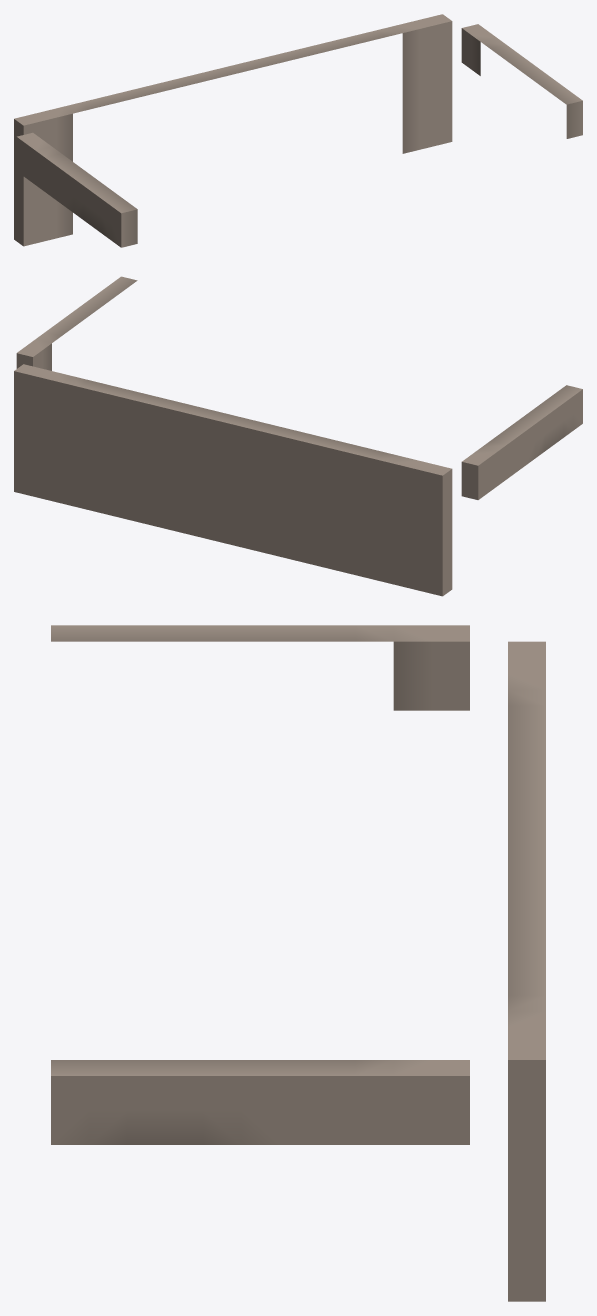
Rendered from hair_m_shaved.glb.
The picture shows the model from 3 angles, top to bottom: view 1: azimuth 30°, elevation 25°; view 2: azimuth 150°, elevation 25°; view 3: azimuth 270°, elevation 25°; orthographic projection. The views are drawn at different scales.
Parts seen in each view (by area): view 1: VoxelVisual; view 2: VoxelVisual; view 3: VoxelVisual.
Part boxes in pixels (x1=…): VoxelVisual: x1=14, y1=14, x2=582, y2=247; VoxelVisual: x1=14, y1=276, x2=582, y2=596; VoxelVisual: x1=51, y1=625, x2=545, y2=1301.
Size of what is drawn, in the model's own units: 1.75 by 0.4375 by 0.8125.
